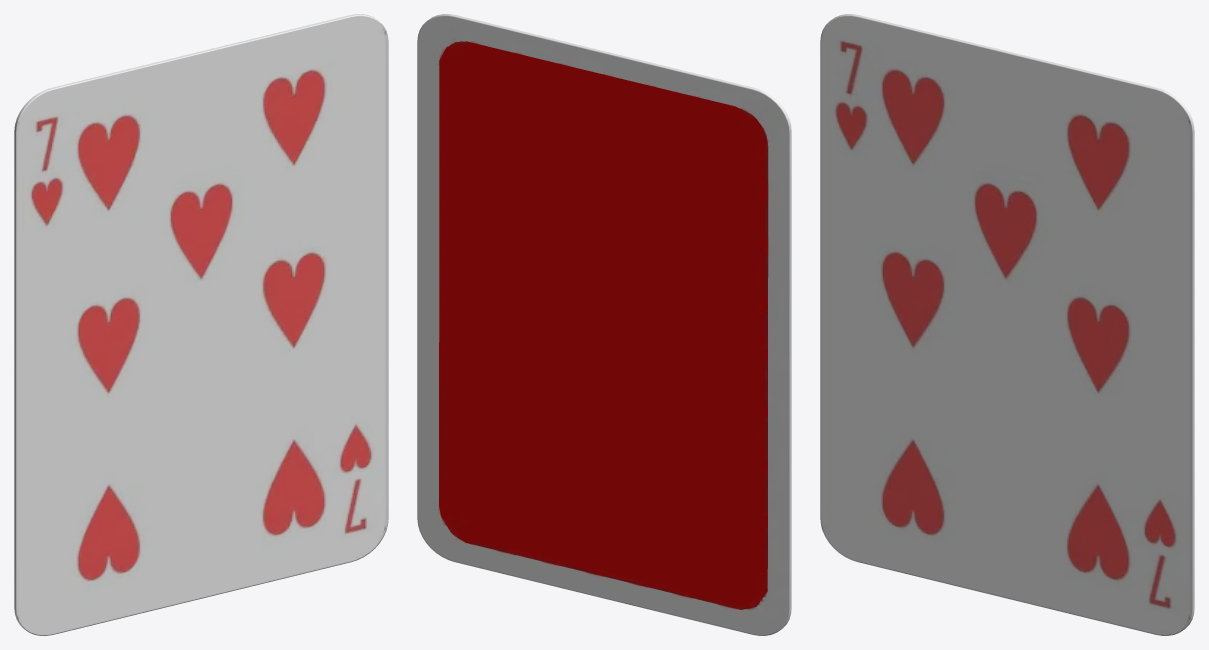
File: hearts_7.glb
The picture shows the model from 3 angles, left to right: view 1: azimuth 30°, elevation 25°; view 2: azimuth 150°, elevation 25°; view 3: azimuth 330°, elevation 25°; orthographic projection.
Visible parts, largest first — view 1: defaultMaterial.041; view 2: defaultMaterial.041; view 3: defaultMaterial.041.
Boxes of the visible parts, bbox=[...] form: defaultMaterial.041: bbox=[14, 14, 388, 635]; defaultMaterial.041: bbox=[417, 14, 791, 635]; defaultMaterial.041: bbox=[820, 14, 1194, 635].
Bounding box in the file's own units: 0.1408 × 0.1972 × 0.00111.
Materials: 1 (1 with a texture image).
